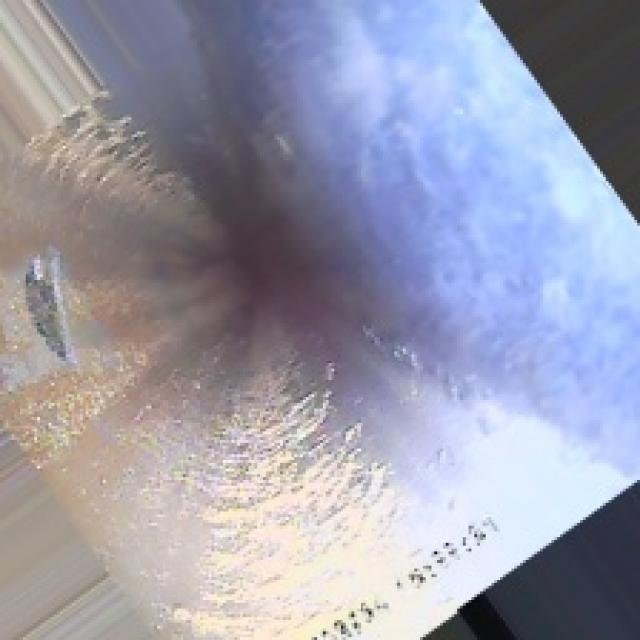pipe_surface_damage: (15, 243, 74, 363)
